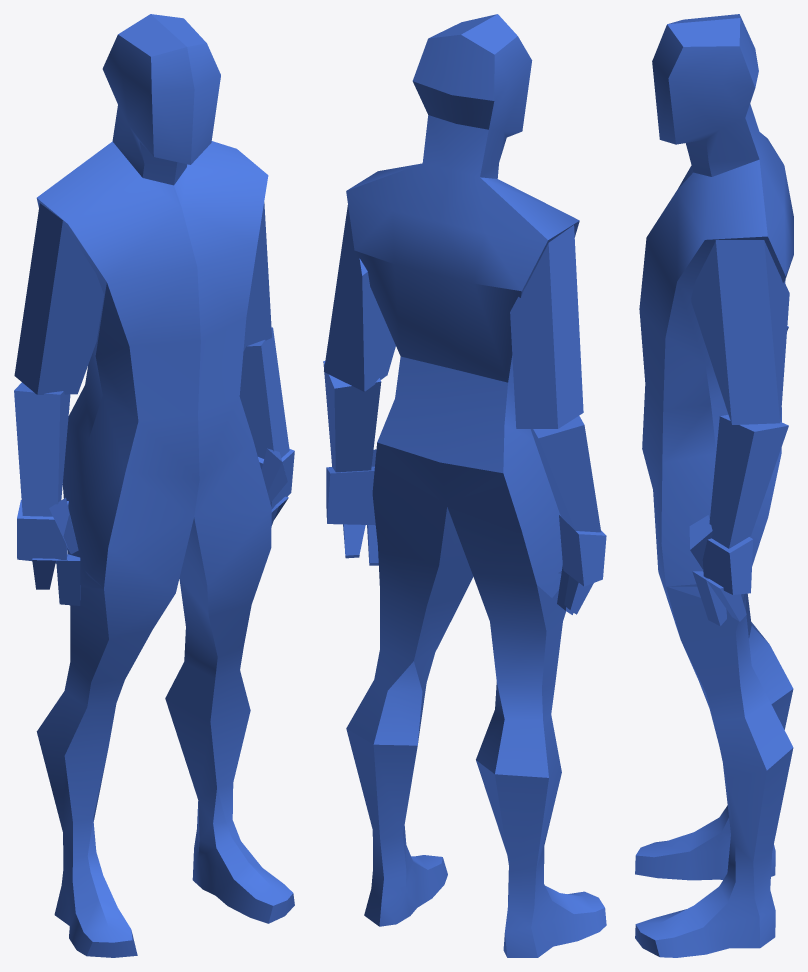
The model's file is Human.fbx.
The picture shows the model from 3 angles, left to right: view 1: azimuth 30°, elevation 25°; view 2: azimuth 150°, elevation 25°; view 3: azimuth 270°, elevation 25°; orthographic projection.
Parts seen in each view (by area): view 1: HumanScale; view 2: HumanScale; view 3: HumanScale.
Boxes of the visible parts, x1,y1,x2,y2 form: HumanScale: (14,14,294,957); HumanScale: (323,14,606,957); HumanScale: (635,14,793,957).
Bounding box in the file's own units: 58.97 × 180 × 29.15.
